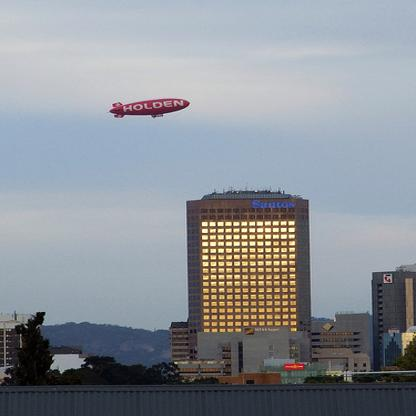Airship: (106, 93, 194, 124)
